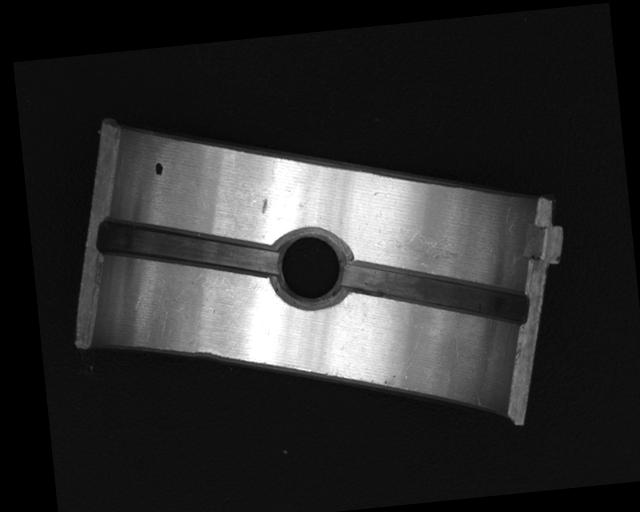blot: (152, 161, 164, 178)
bruise: (258, 196, 268, 214)
gap: (340, 243, 530, 338), (95, 203, 278, 292)
hole: (267, 222, 355, 309)
scratch: (384, 222, 473, 270)
